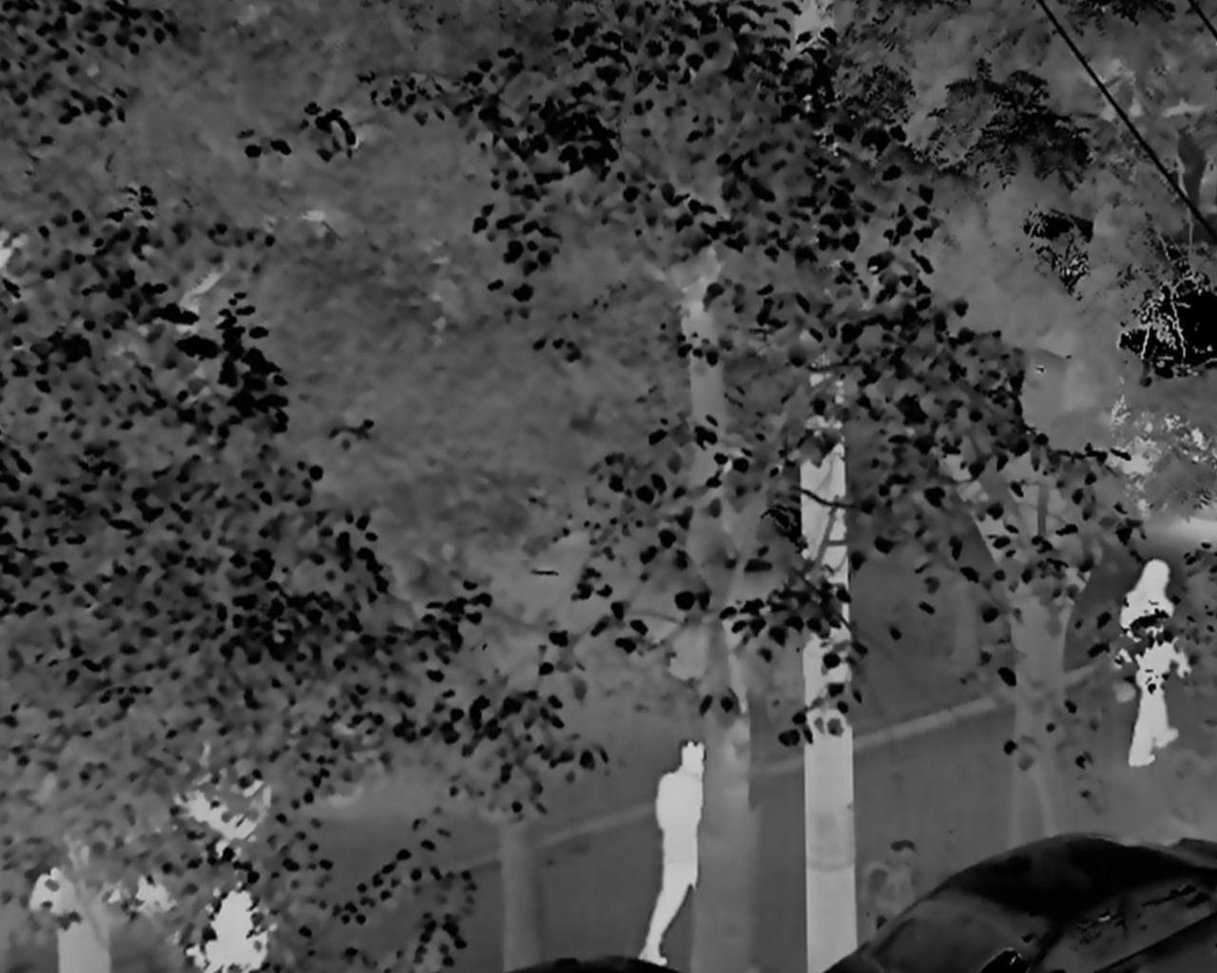person: (1117, 558, 1187, 773), (644, 740, 708, 973)
